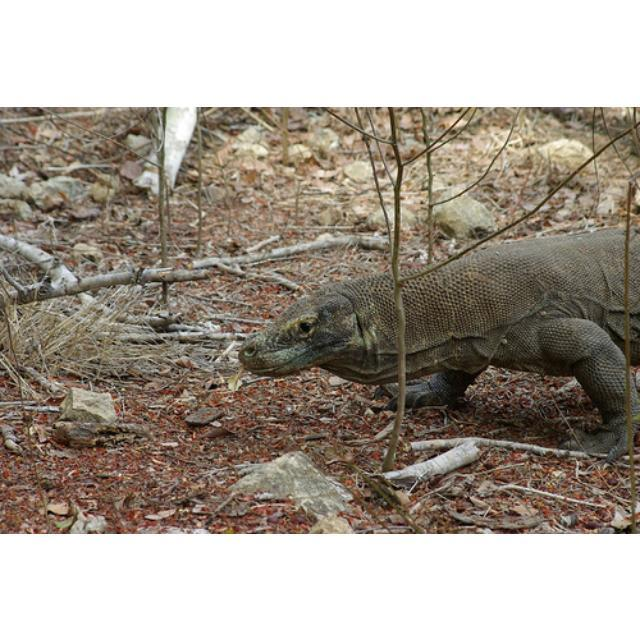KomodoDragon: (240, 224, 640, 454)
